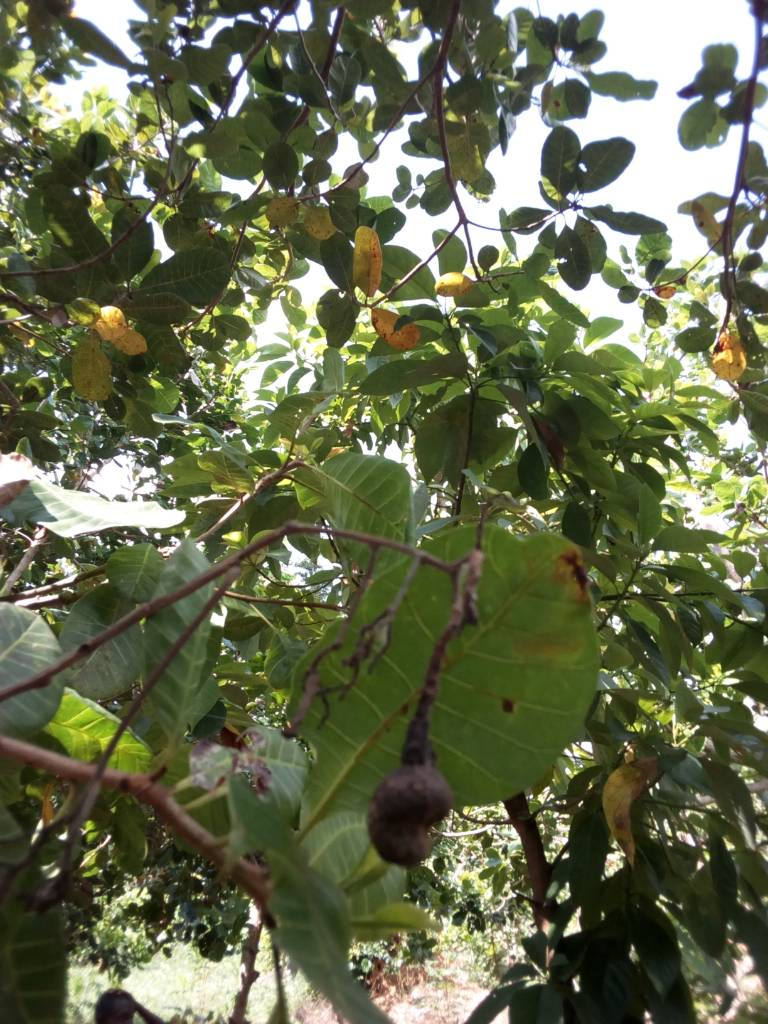Die-black: (355, 756, 461, 879)
